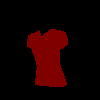polo: (26, 28, 68, 87)
